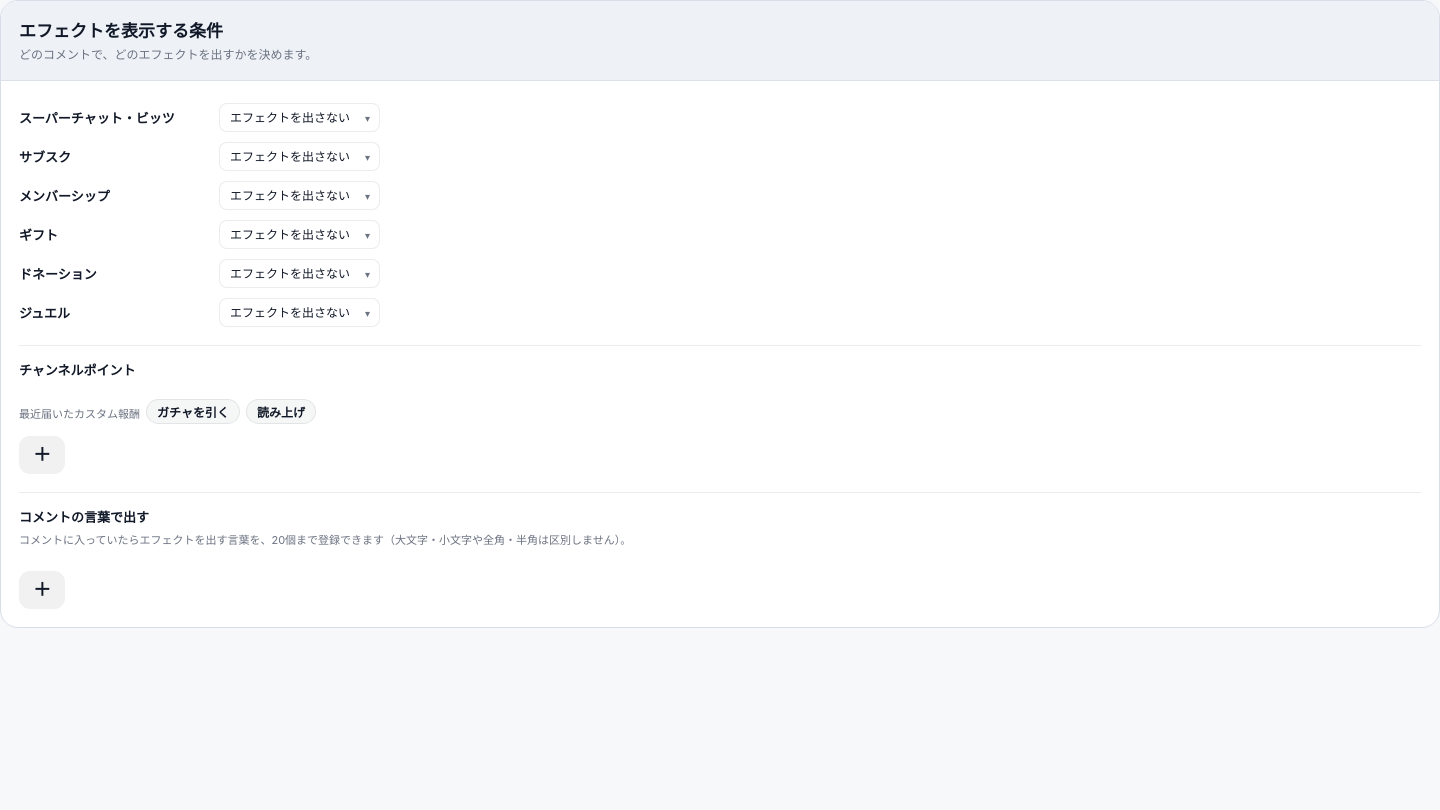
it: 064b: 割り当て先の OBS ソース（画面） › ⚠⚠⚠ 最近届いた報酬名のチップを押すと、その報酬の行が生えて保存される
The image size is (1440, 810).
Click the button with aria-label "「ガチャを引く」の行を追加".
click(193, 412)  # box [146,399,240,424]
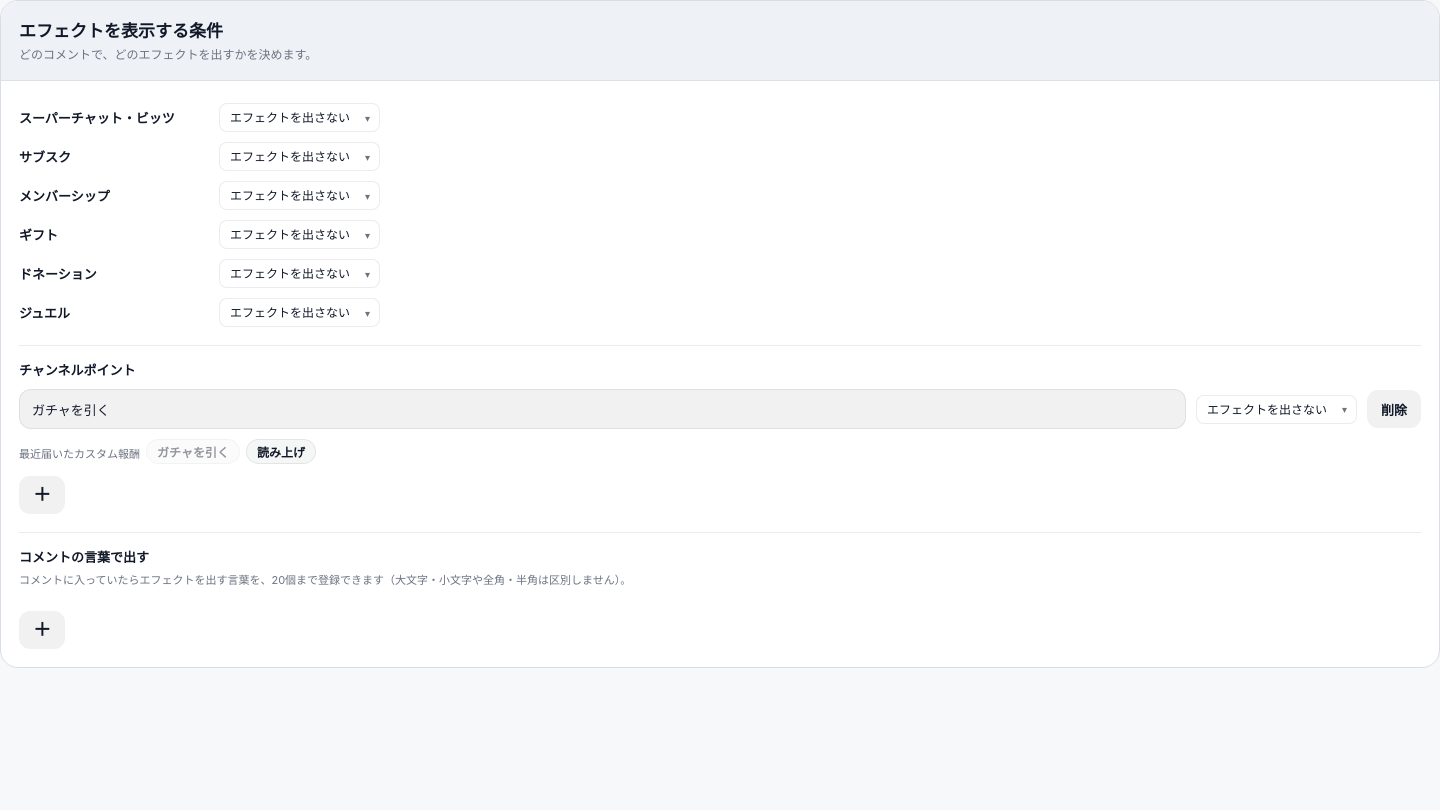
expect the field named "カスタム報酬の名前 1" holds "ガチャを引く": met, box [19,389,1186,429]
